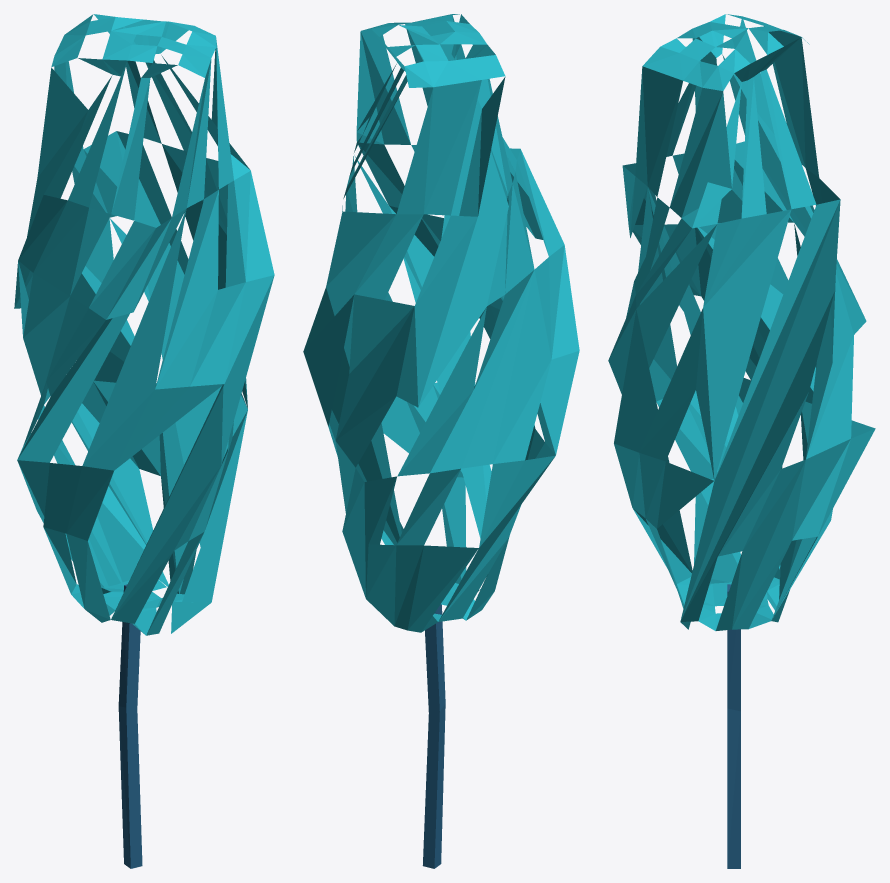
File: world_3_tree_2.dae
3 renders of one model, left to right at view 1: azimuth 30°, elevation 25°; view 2: azimuth 150°, elevation 25°; view 3: azimuth 270°, elevation 25°, orthographic.
Parts seen in each view (by area): view 1: world_3_tree_2_leaves, world_3_tree_2_base; view 2: world_3_tree_2_leaves, world_3_tree_2_base; view 3: world_3_tree_2_leaves, world_3_tree_2_base.
Part boxes in pixels (<box>): world_3_tree_2_leaves: <box>14,14,274,635</box>; world_3_tree_2_base: <box>118,584,142,868</box>; world_3_tree_2_leaves: <box>303,14,579,632</box>; world_3_tree_2_base: <box>422,604,445,868</box>; world_3_tree_2_leaves: <box>608,14,875,630</box>; world_3_tree_2_base: <box>727,584,740,868</box>.
Bounding box in the file's own units: 1.47 × 1.52 × 5.23.
